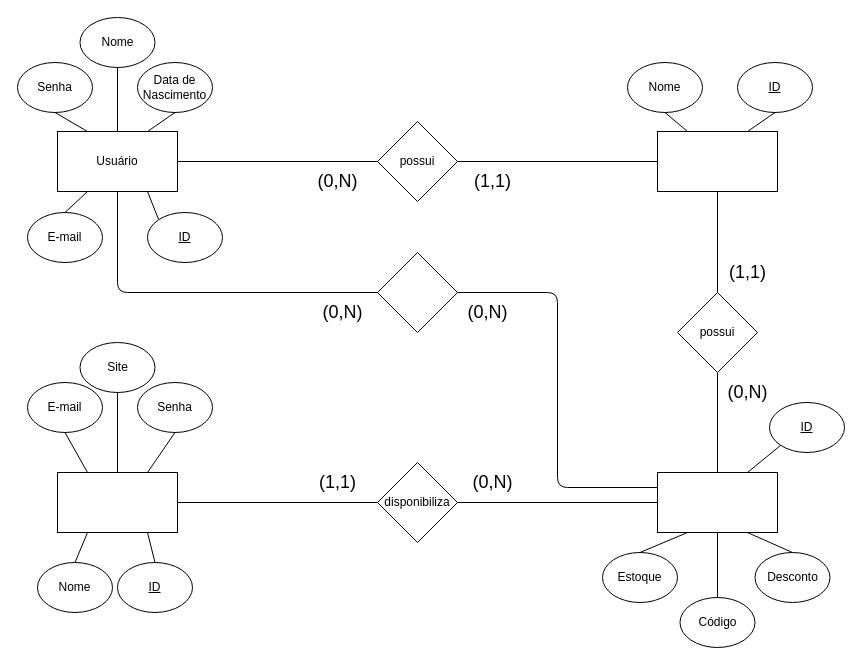
Image size: 862x665. Some labels were removed from this diagram. Each missing label, with the centre of its shape:
"Assinatura" belongs at (717,161).
"Cupom" belongs at (717,502).
"Loja" belongs at (117,502).
"resgata" belongs at (417,292).
